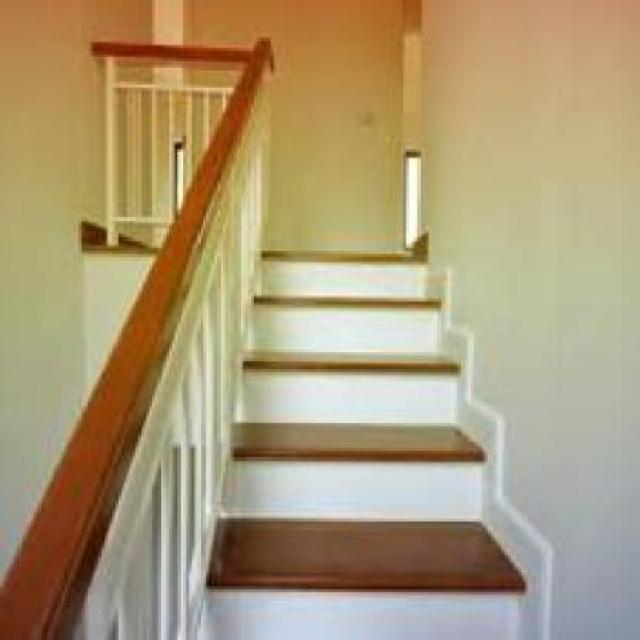stair: (209, 358, 532, 615)
